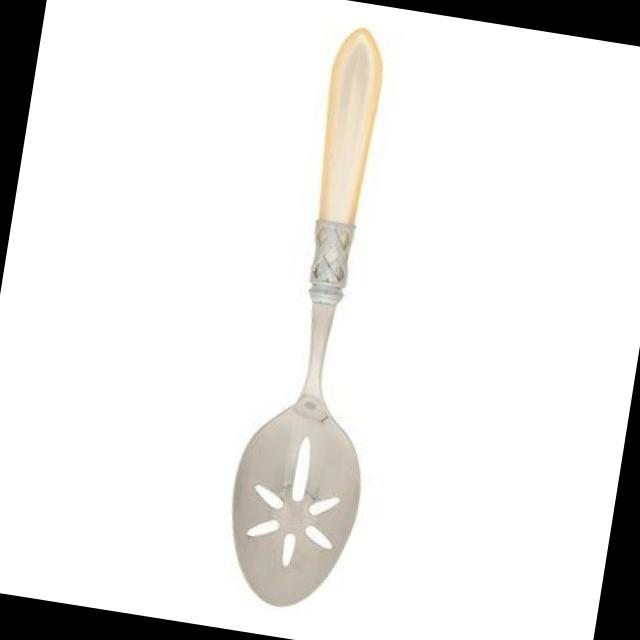spoon: (212, 17, 443, 620)
